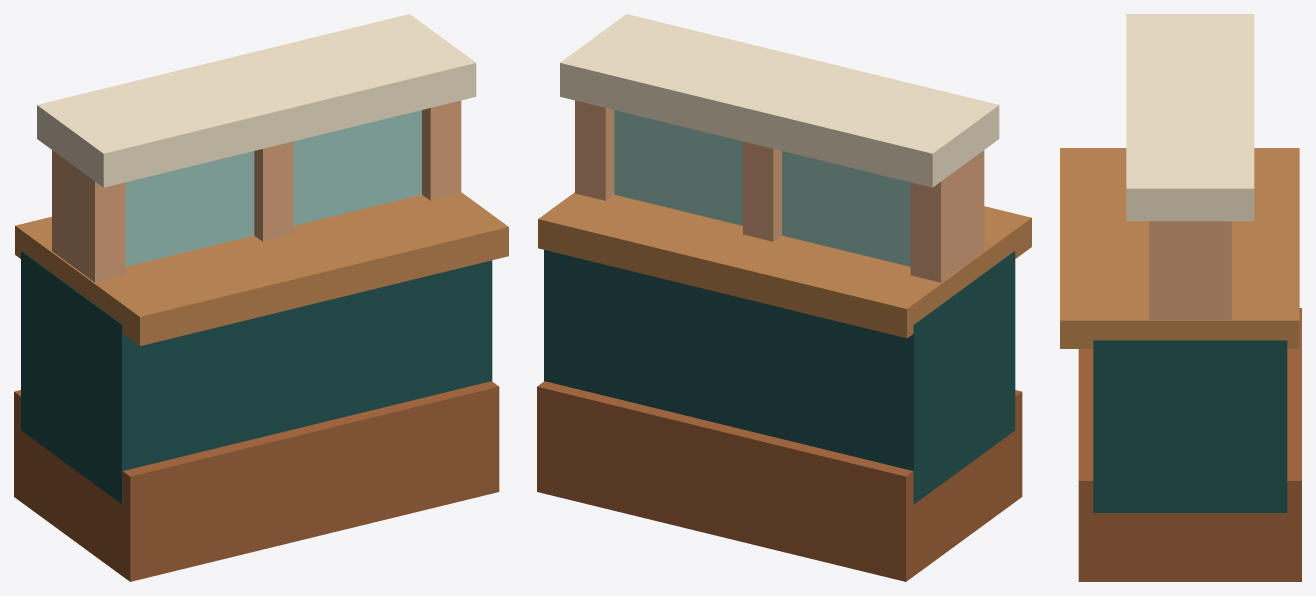
File: Wall.glb
3 renders of one model, left to right at view 1: azimuth 30°, elevation 25°; view 2: azimuth 150°, elevation 25°; view 3: azimuth 270°, elevation 25°, orthographic. The views are drawn at different scales.
Parts seen in each view (by area): view 1: Glazed wainscot, Timber sill, Window header, Window sill, Frosted glass, Window casing, Window casing.002, Window casing.001; view 2: Glazed wainscot, Timber sill, Window header, Window sill, Frosted glass, Window casing, Window casing.002, Window casing.001; view 3: Glazed wainscot, Window sill, Window header, Timber sill, Window casing.002.
Part boxes in pixels (x1,y1,x2,y2): Glazed wainscot: [21, 251, 492, 504]; Timber sill: [14, 381, 499, 581]; Window header: [37, 14, 476, 187]; Window sill: [15, 192, 508, 345]; Frosted glass: [125, 110, 421, 266]; Window casing: [52, 150, 125, 282]; Window casing.002: [422, 100, 461, 200]; Window casing.001: [254, 141, 293, 241]; Glazed wainscot: [544, 250, 1015, 504]; Timber sill: [537, 381, 1022, 581]; Window header: [560, 14, 999, 187]; Window sill: [538, 192, 1031, 338]; Frosted glass: [614, 110, 910, 266]; Window casing: [910, 150, 984, 282]; Window casing.002: [575, 100, 614, 200]; Window casing.001: [743, 141, 781, 241]; Glazed wainscot: [1093, 340, 1287, 512]; Window sill: [1060, 148, 1299, 348]; Window header: [1126, 14, 1254, 221]; Timber sill: [1078, 308, 1301, 581]; Window casing.002: [1149, 221, 1231, 319].
Size of the model in its own units: 1 by 1.05 by 0.585.
